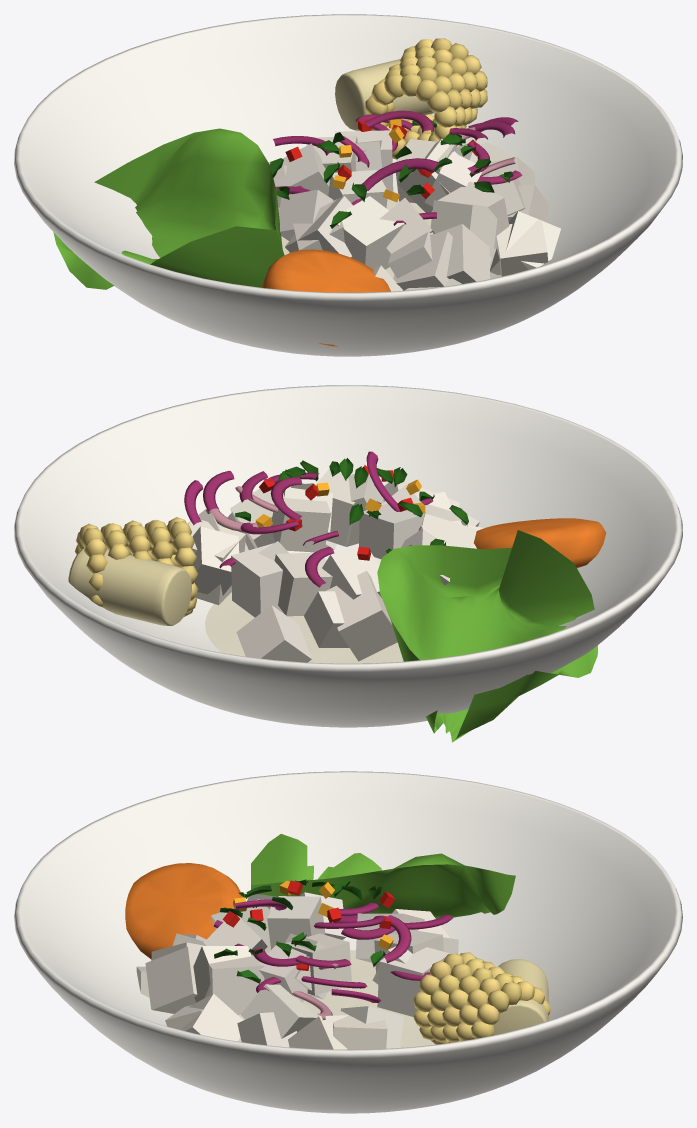
File: ceviche.glb
The picture shows the model from 3 angles, top to bottom: view 1: azimuth 30°, elevation 25°; view 2: azimuth 150°, elevation 25°; view 3: azimuth 270°, elevation 25°; orthographic projection.
Visible parts, largest first — view 1: ceviche; view 2: ceviche; view 3: ceviche.
Boxes of the visible parts, x1=… form: ceviche: x1=14, y1=14, x2=682, y2=356; ceviche: x1=14, y1=385, x2=682, y2=742; ceviche: x1=14, y1=771, x2=682, y2=1113.
Bounding box in the file's own units: 0.24 × 0.0666 × 0.24.
